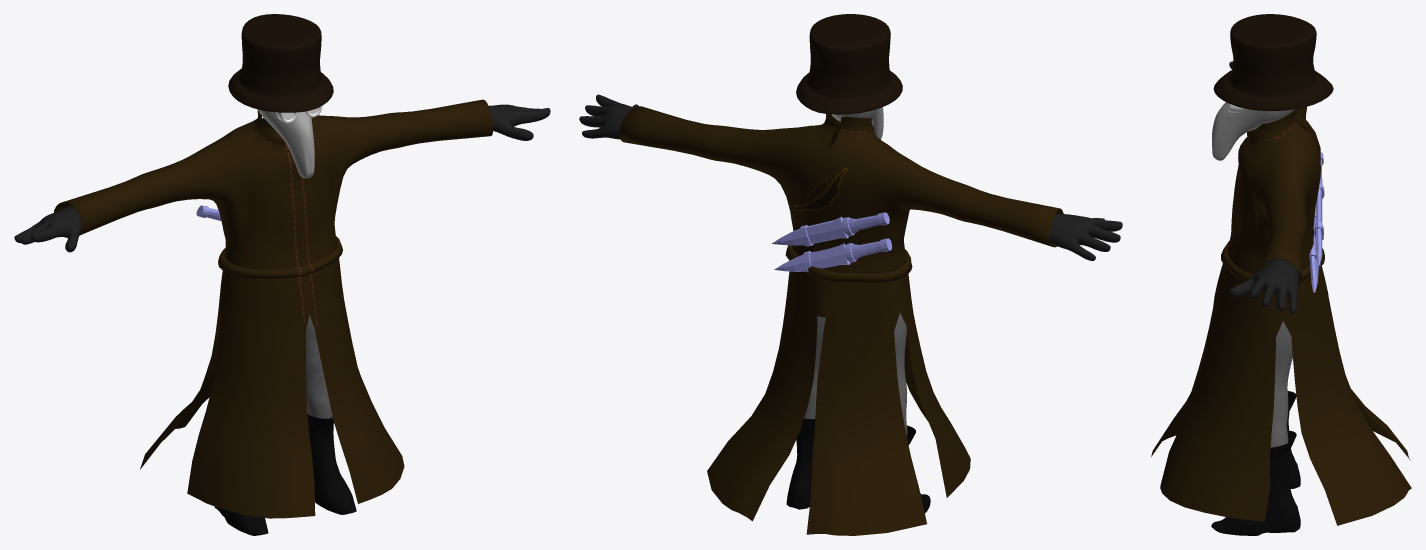
File: Placement_Project_Character_TheSecond.fbx
The picture shows the model from 3 angles, left to right: view 1: azimuth 30°, elevation 25°; view 2: azimuth 150°, elevation 25°; view 3: azimuth 270°, elevation 25°; orthographic projection.
Visible parts, largest first — view 1: Nendoroid_B.002, Hat.002, Leg.L, Mask.002, Nendoroid_B.003; view 2: Nendoroid_B.002, Hat.002, Leg.L, Plane.002, Plane.001, Nendoroid_B.003; view 3: Nendoroid_B.002, Hat.002, Leg.L, Mask.002, Plane.002, Nendoroid_B.003, Plane.001.
Part boxes in pixels (x1,y1,x2,y2): Nendoroid_B.002: [14, 99, 550, 518]; Hat.002: [228, 14, 333, 112]; Leg.L: [214, 315, 356, 535]; Mask.002: [258, 109, 314, 178]; Nendoroid_B.003: [218, 236, 342, 278]; Nendoroid_B.002: [579, 94, 1122, 535]; Hat.002: [796, 14, 902, 114]; Leg.L: [786, 313, 930, 512]; Plane.002: [771, 212, 889, 246]; Plane.001: [774, 238, 892, 272]; Nendoroid_B.003: [785, 245, 912, 282]; Nendoroid_B.002: [1151, 61, 1411, 525]; Hat.002: [1213, 14, 1333, 111]; Leg.L: [1211, 321, 1300, 535]; Mask.002: [1212, 102, 1295, 160]; Plane.002: [1314, 152, 1324, 264]; Nendoroid_B.003: [1221, 241, 1324, 281]; Plane.001: [1308, 206, 1320, 292].
Bounding box in the file's own units: 756 × 651 × 320.
Materials: 8 (3 with a texture image).
